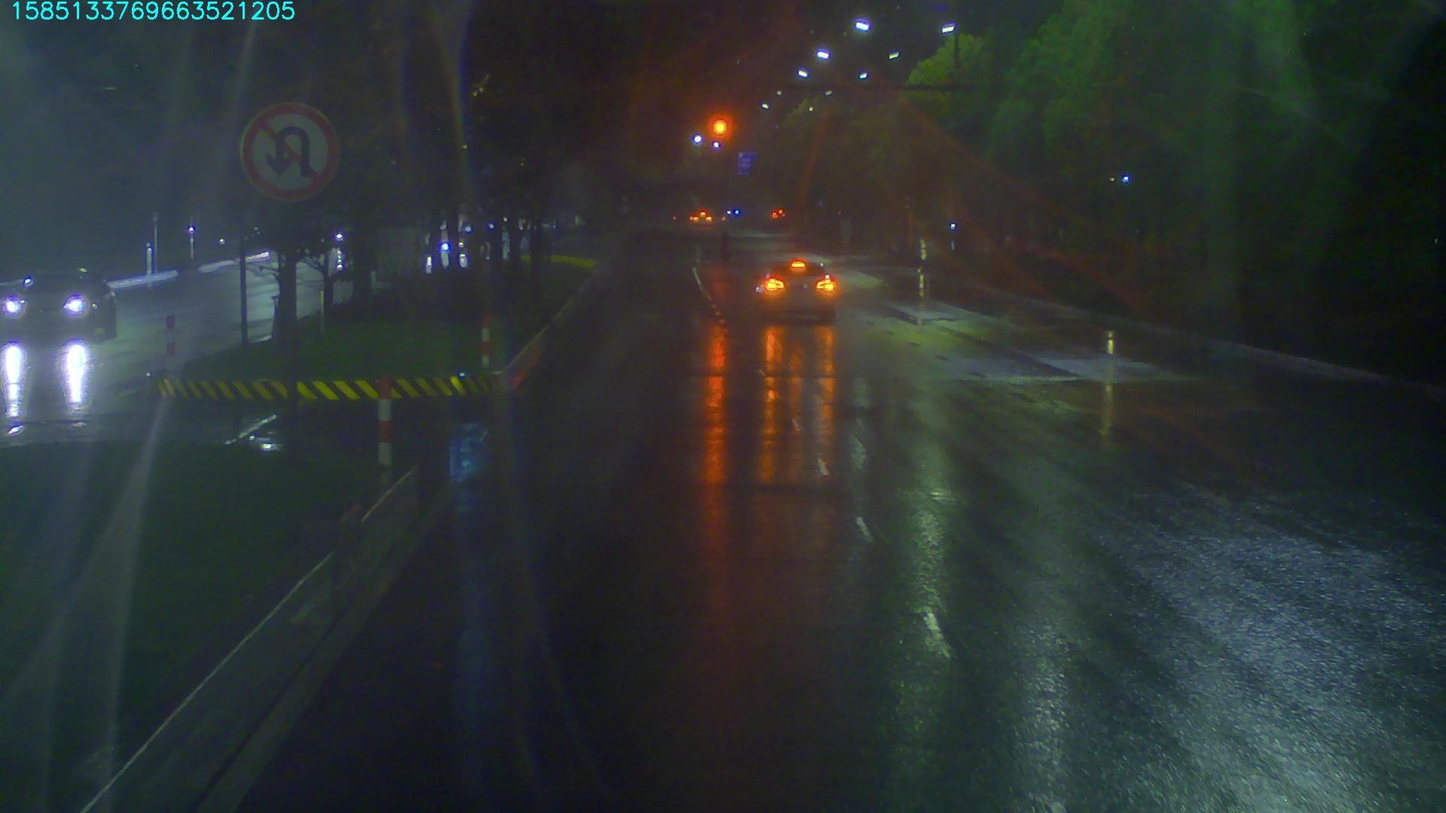red: (705, 111, 733, 139)
